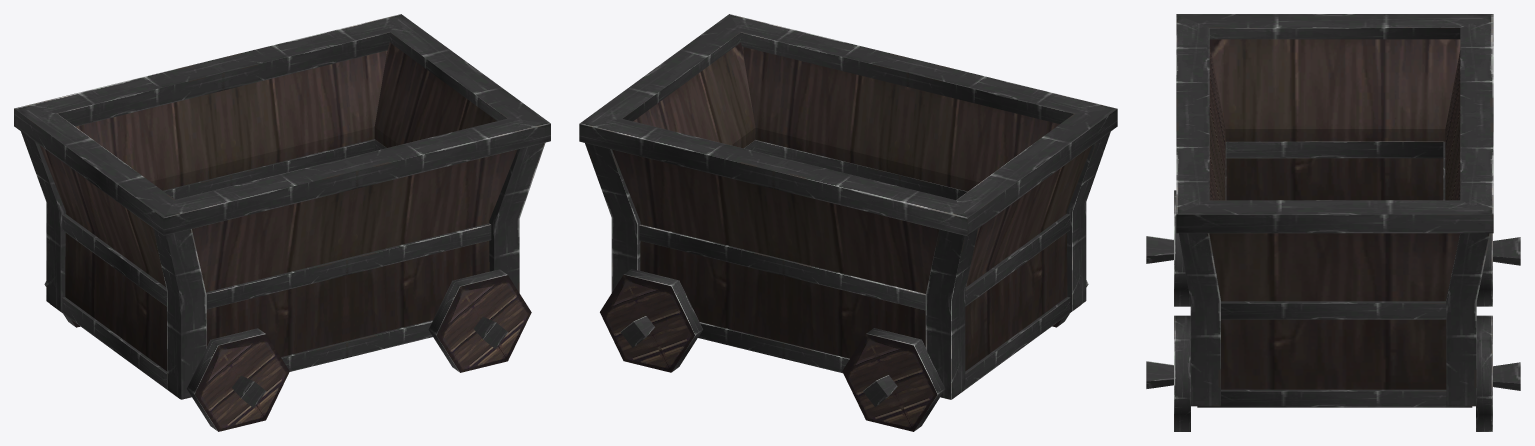
The model's file is environment_common_kuangkengche_001_a.FBX.
3 views of the same model, side by side, from view 1: azimuth 30°, elevation 25°; view 2: azimuth 150°, elevation 25°; view 3: azimuth 270°, elevation 25° (orthographic). The views are drawn at different scales.
Parts seen in each view (by area): view 1: environment_common_kuangkengche_001_a; view 2: environment_common_kuangkengche_001_a; view 3: environment_common_kuangkengche_001_a.
Part boxes in pixels (<box>): environment_common_kuangkengche_001_a: <box>14,14,550,431</box>; environment_common_kuangkengche_001_a: <box>579,14,1117,431</box>; environment_common_kuangkengche_001_a: <box>1146,14,1520,431</box>.
Size of the model in its own units: 210 by 117 by 165.
